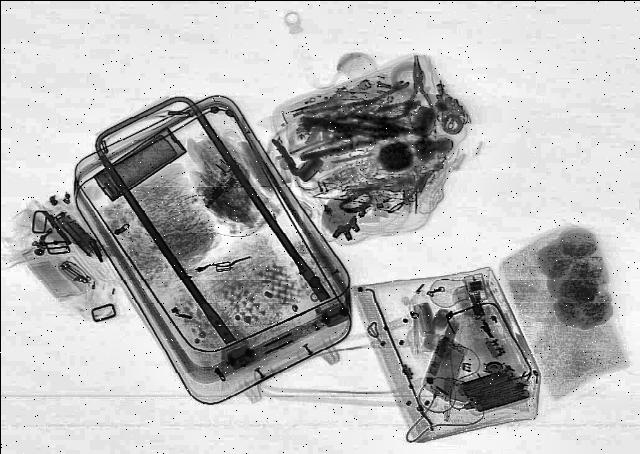Pliers: (402, 56, 434, 132)
Wrench: (360, 77, 412, 107)
